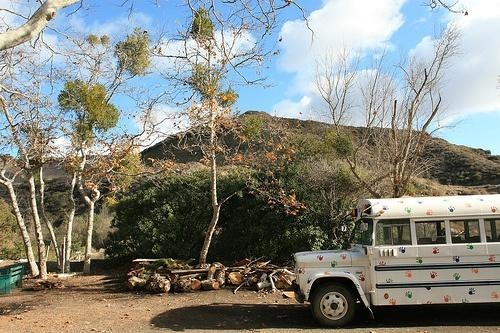bus: (291, 195, 500, 325)
